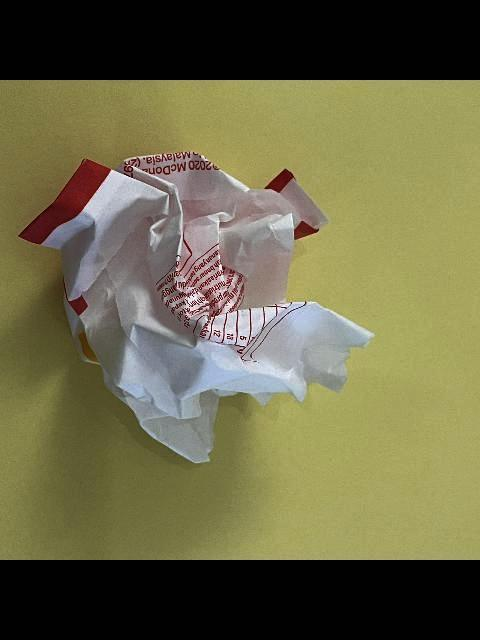paperbag: (15, 149, 377, 465)
